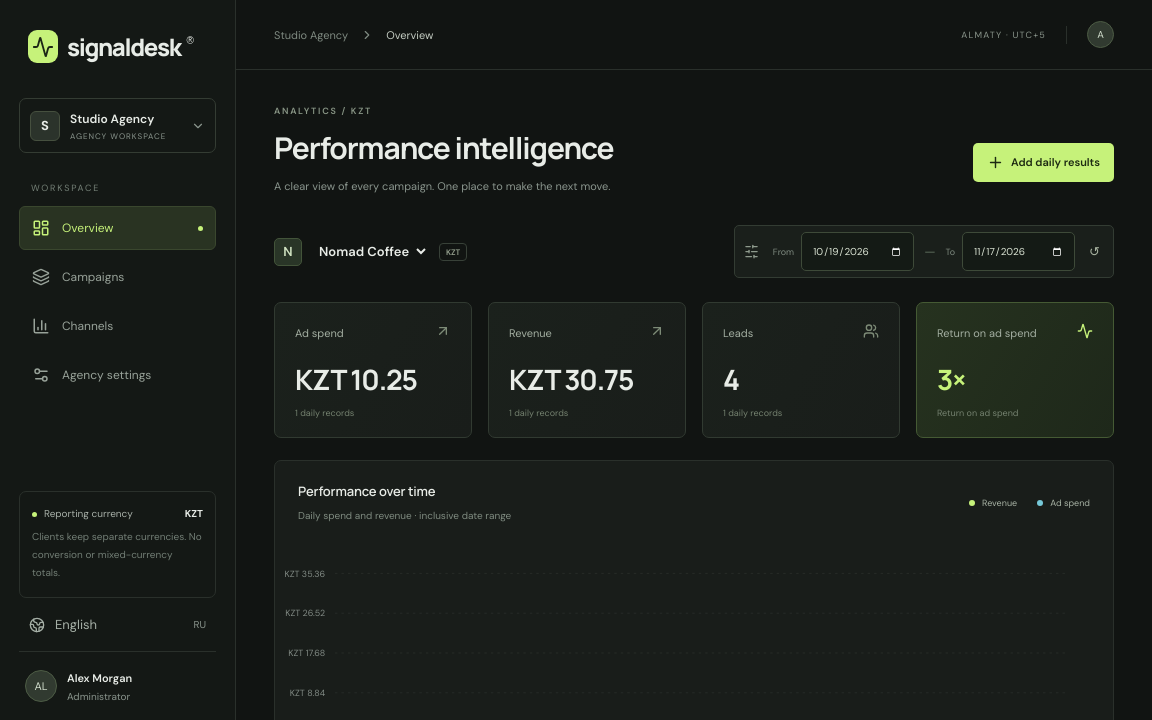
Test: Independent QA financial precision › preserves entered fractional money in report display
Expected: the text "KZT 10.25" is shown, [295,360,417,398]
Click the button "English RU" at point(118, 624), box [19,598,216,651]
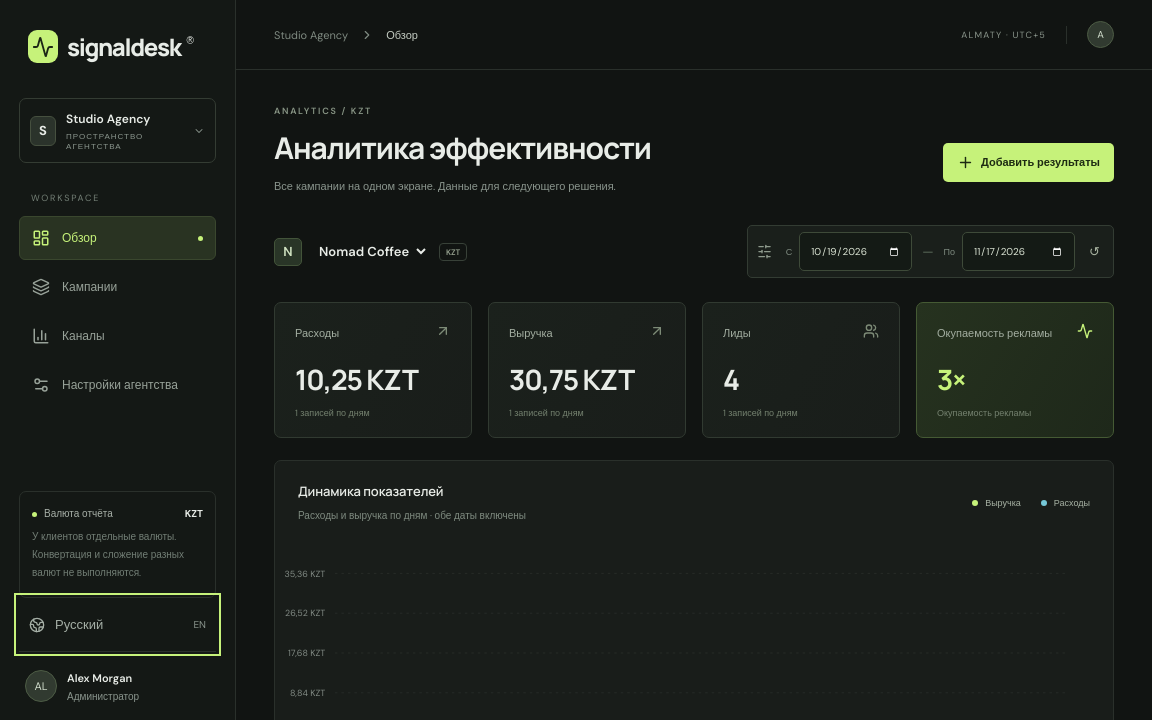
Now the text "10,25 KZT" is shown, box [295,360,418,398]
